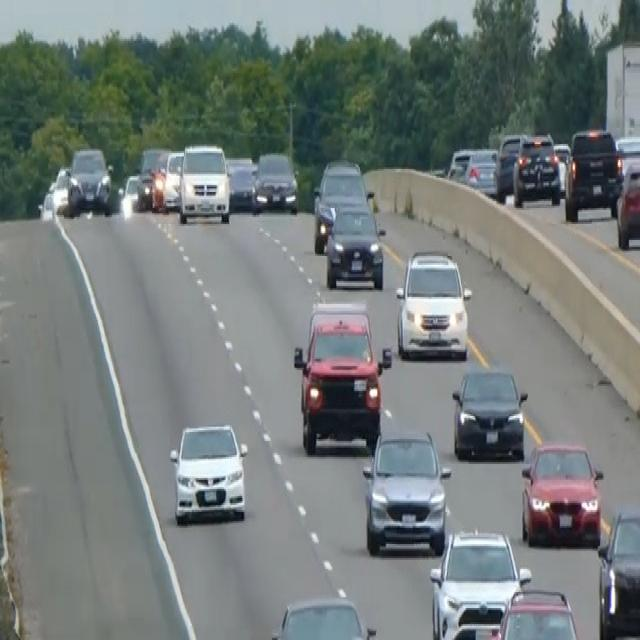car: (361, 426, 451, 554), (428, 526, 530, 638), (520, 439, 603, 548), (168, 420, 248, 524), (451, 364, 528, 460), (312, 156, 372, 252), (596, 507, 639, 638), (324, 199, 385, 290), (564, 127, 622, 220), (486, 585, 585, 638), (269, 594, 377, 638), (512, 130, 561, 206), (68, 144, 113, 213), (252, 150, 298, 213), (447, 144, 500, 197), (615, 156, 639, 249), (494, 130, 526, 197), (136, 144, 168, 208), (225, 154, 257, 210), (50, 165, 79, 217), (149, 150, 171, 212), (162, 149, 184, 210), (433, 620, 502, 638), (614, 132, 639, 176), (120, 171, 146, 213)
jeep: (292, 299, 392, 455)
minivan: (394, 244, 473, 362), (177, 138, 231, 225)
